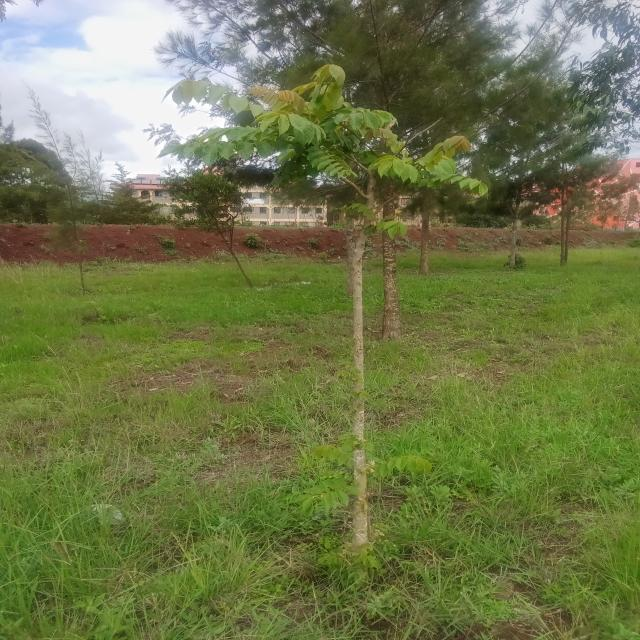Polyscias Kikuyensis: (162, 62, 622, 572)
